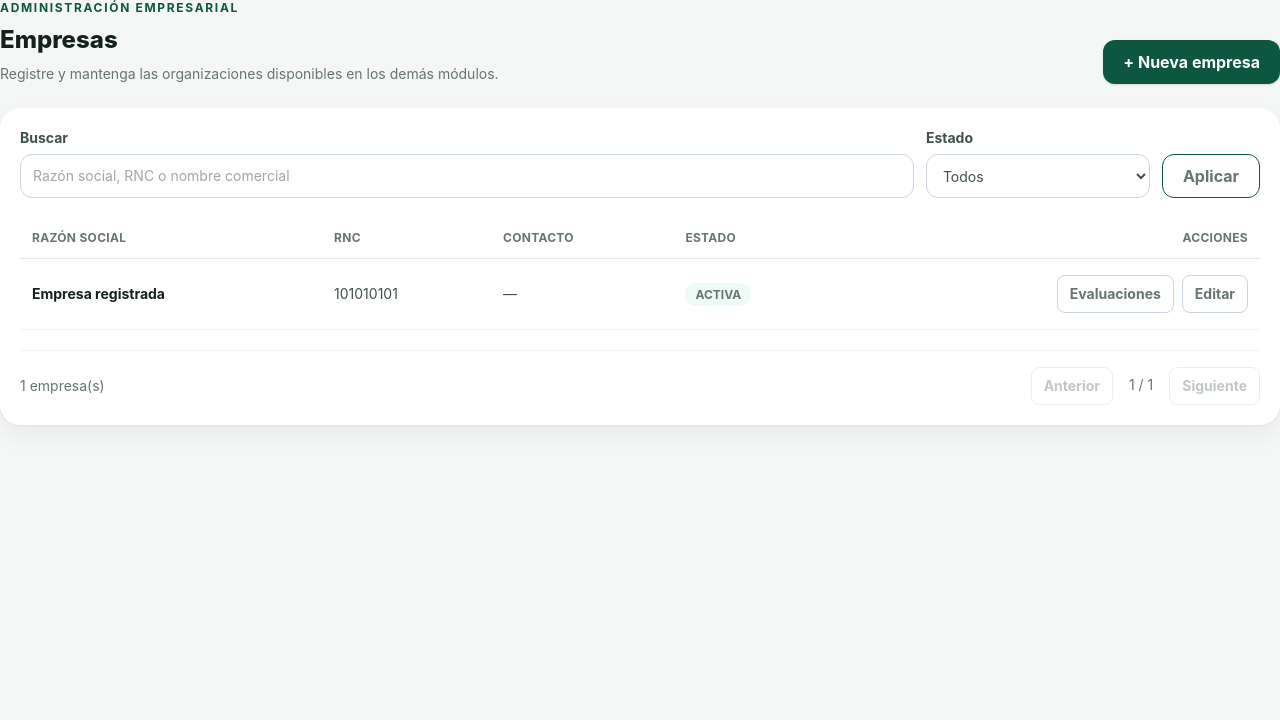
Test case: CompaniesManagement › muestra empresas persistidas y abre el formulario de registro
Check: the text "Empresa registrada" is shown, box [20, 258, 322, 330]
What coordinates should you click on to do the following:
click the button "+ Nueva empresa"
I would click on:
 (1192, 62)
Its box is [1103, 40, 1279, 84].
(page scrolled)
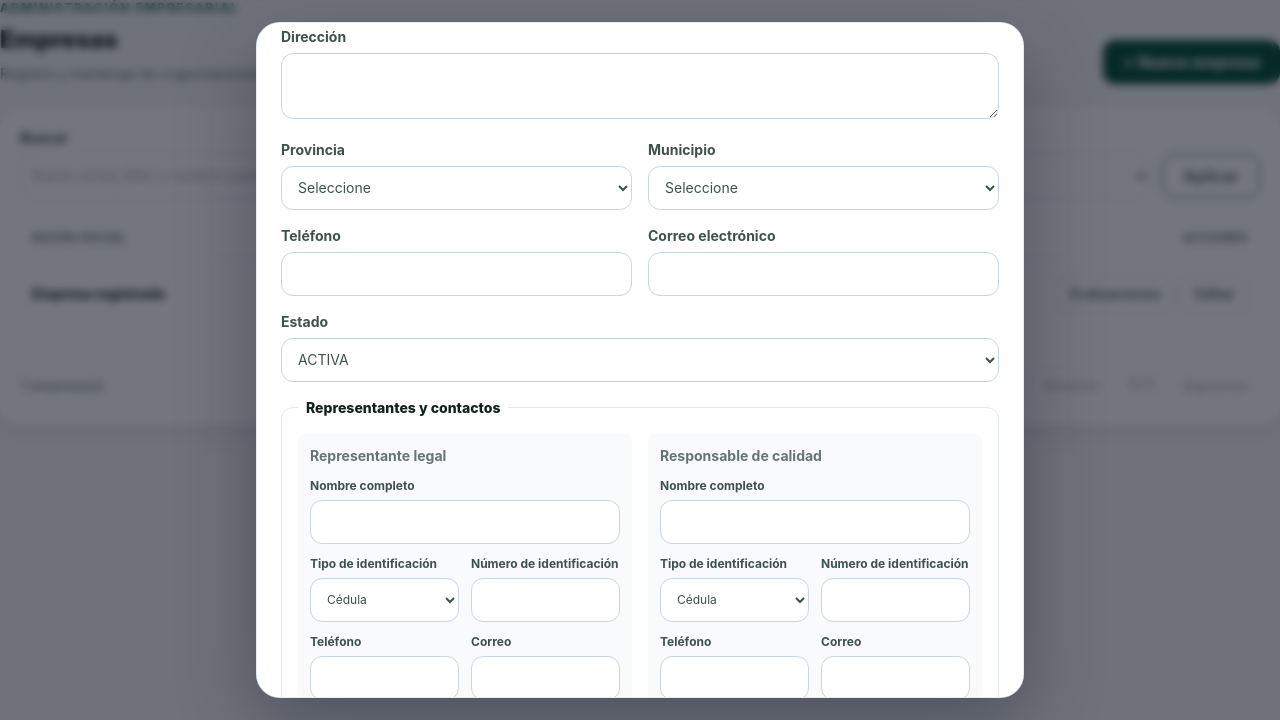
Check: the dialog "Registrar empresa" is shown, box [256, 22, 1024, 698]
Check: the dropdown labelled "Estado" shows "ACTIVA", box [281, 338, 999, 382]
